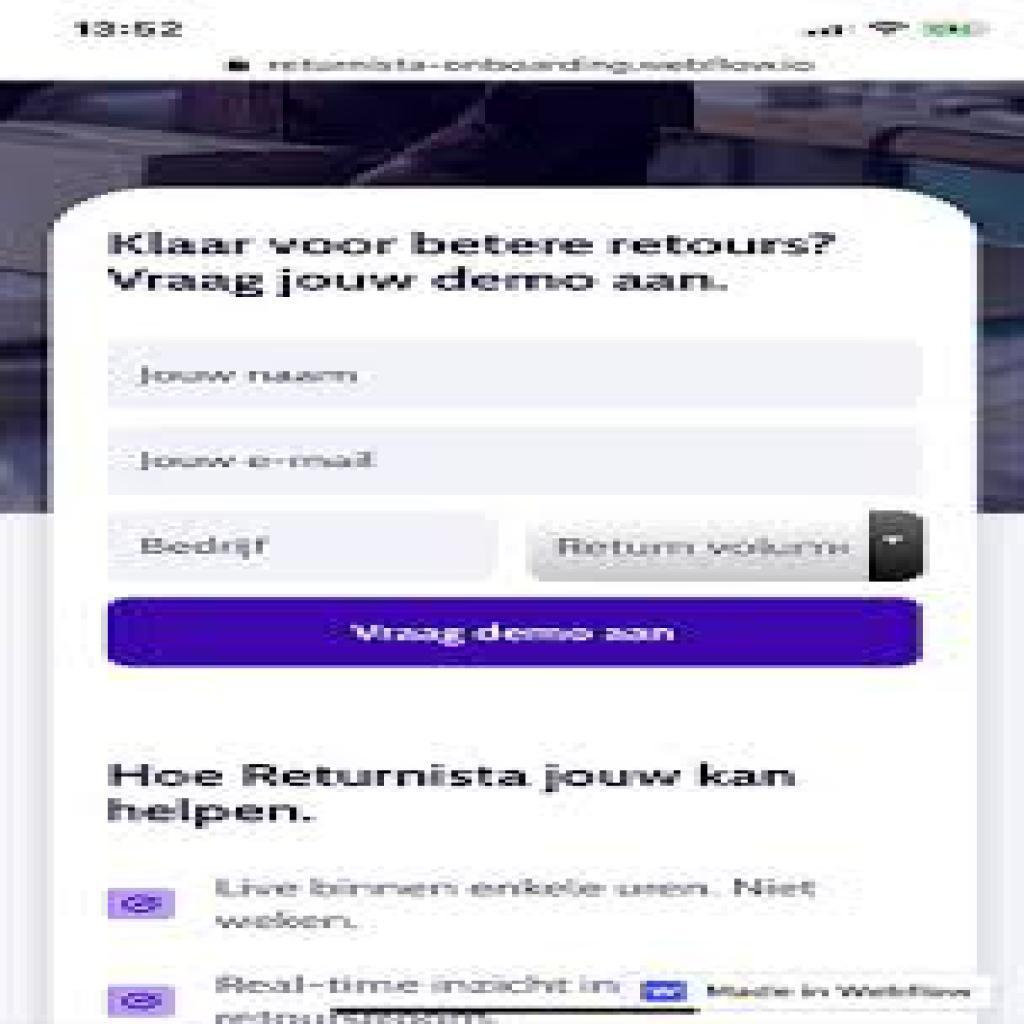button: (108, 597, 925, 670)
dropdown: (531, 510, 925, 586)
input: (108, 425, 925, 496), (107, 345, 921, 409), (107, 511, 497, 581)
